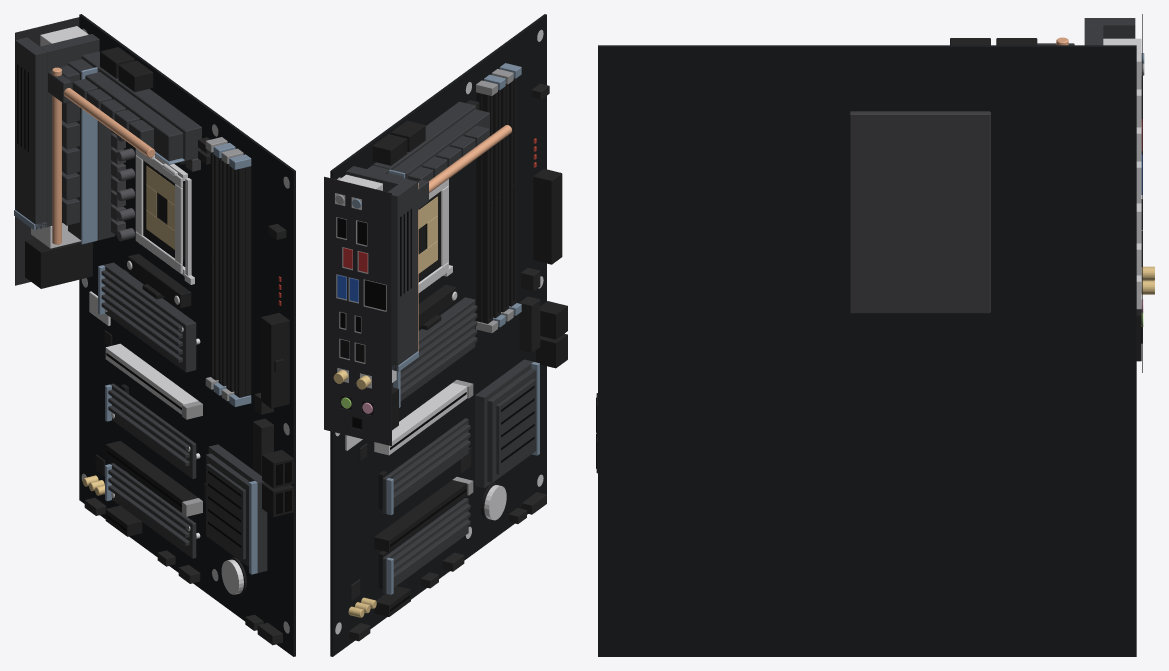
The model's file is AM5_MB_ATX.glb.
The picture shows the model from 3 angles, left to right: view 1: azimuth 30°, elevation 25°; view 2: azimuth 150°, elevation 25°; view 3: azimuth 270°, elevation 25°; orthographic projection. The views are drawn at different scales.
Parts seen in each view (by area): view 1: PCB, VRM_Heatsink_Left, IO_Cover, VRM_Heatsink_Top, Chipset_Heatsink, M2_0_Heatsink, DIMM_B2, Rear_IO, M2_1_Heatsink, M2_2_Heatsink, Socket_AM5, Board_Components (+14 smaller); view 2: PCB, IO_Shield, Chipset_Heatsink, IO_Cover, VRM_Heatsink_Top, Rear_IO, M2_0_Heatsink, DIMM_A1, M2_2_Heatsink, M2_1_Heatsink, Headers, Power_ATX24 (+14 smaller); view 3: PCB, CPU_Backplate, Rear_IO, IO_Cover.
Boxes of the visible parts, x1,y1,x2,y2 form: PCB: (79,14,295,656); VRM_Heatsink_Left: (48,51,114,244); IO_Cover: (14,34,99,230); VRM_Heatsink_Top: (63,68,201,164); Chipset_Heatsink: (206,444,267,574); M2_0_Heatsink: (98,262,196,372); DIMM_B2: (229,154,251,407); Rear_IO: (25,26,92,288); M2_1_Heatsink: (105,383,196,478); M2_2_Heatsink: (105,463,196,558); Socket_AM5: (143,155,194,284); Board_Components: (82,130,281,502); PCB: (330,14,546,656); IO_Shield: (324,176,391,445); Chipset_Heatsink: (475,359,539,488); IO_Cover: (346,166,418,371); VRM_Heatsink_Top: (373,101,511,192); Rear_IO: (333,174,398,430); M2_0_Heatsink: (392,297,477,407); DIMM_A1: (476,80,497,332); M2_2_Heatsink: (382,498,470,594); M2_1_Heatsink: (382,418,470,515); Headers: (349,83,549,641); Power_ATX24: (533,169,562,264); PCB: (598,45,1136,656); CPU_Backplate: (849,111,990,313); Rear_IO: (1103,38,1154,361); IO_Cover: (1084,18,1135,45).
Bounding box in the file's own units: 0.048 × 0.305 × 0.2531.
